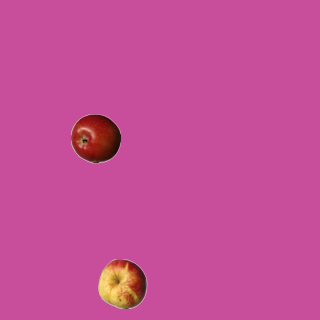Apple Braeburn: (70, 113, 120, 163)
Apple Red Yellow 1: (97, 258, 147, 308)
